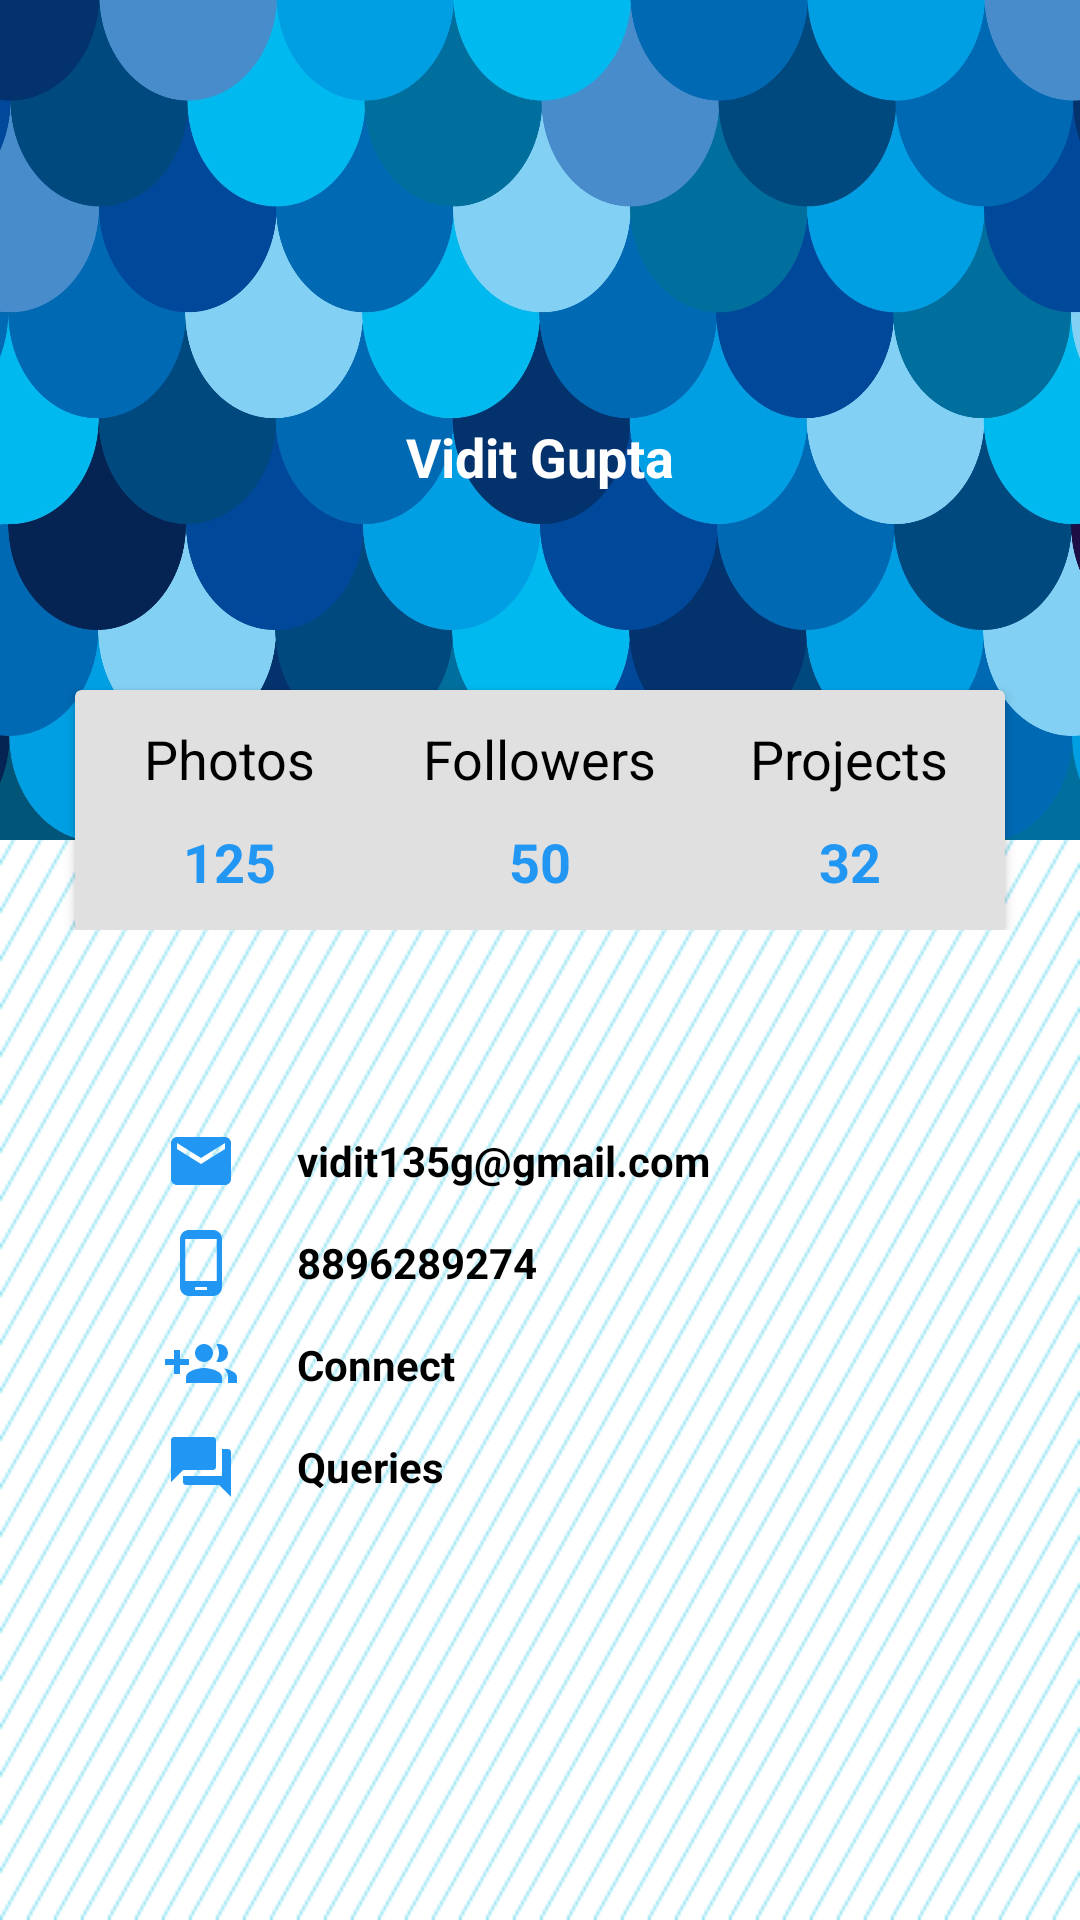

Screen size 1080×1920. Icon name, then its box in pixels as (x1, y1, x2, y2):
forum: (165, 1431, 237, 1503)
group add: (165, 1329, 237, 1401)
phone: (165, 1227, 237, 1299)
